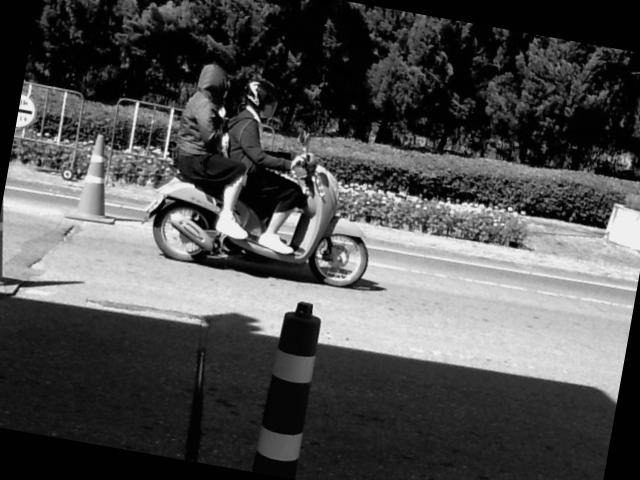helmet: (245, 79, 276, 108)
motor: (142, 155, 366, 286)
no-helmet: (196, 58, 231, 102)
person: (226, 78, 304, 253), (174, 62, 247, 239)
